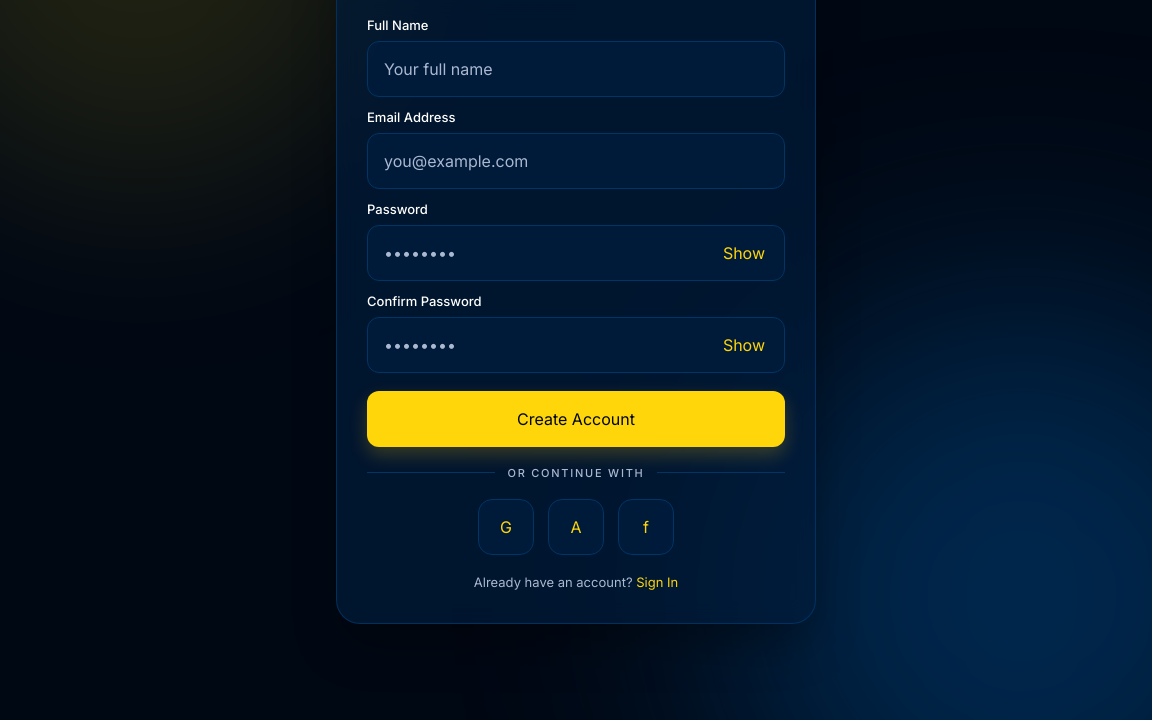
AuthPage › exibe toast informativo ao clicar nos botões sociais
(page scrolled)
Click the button named "Continue with Google" at (506, 527), box [478, 499, 534, 555]
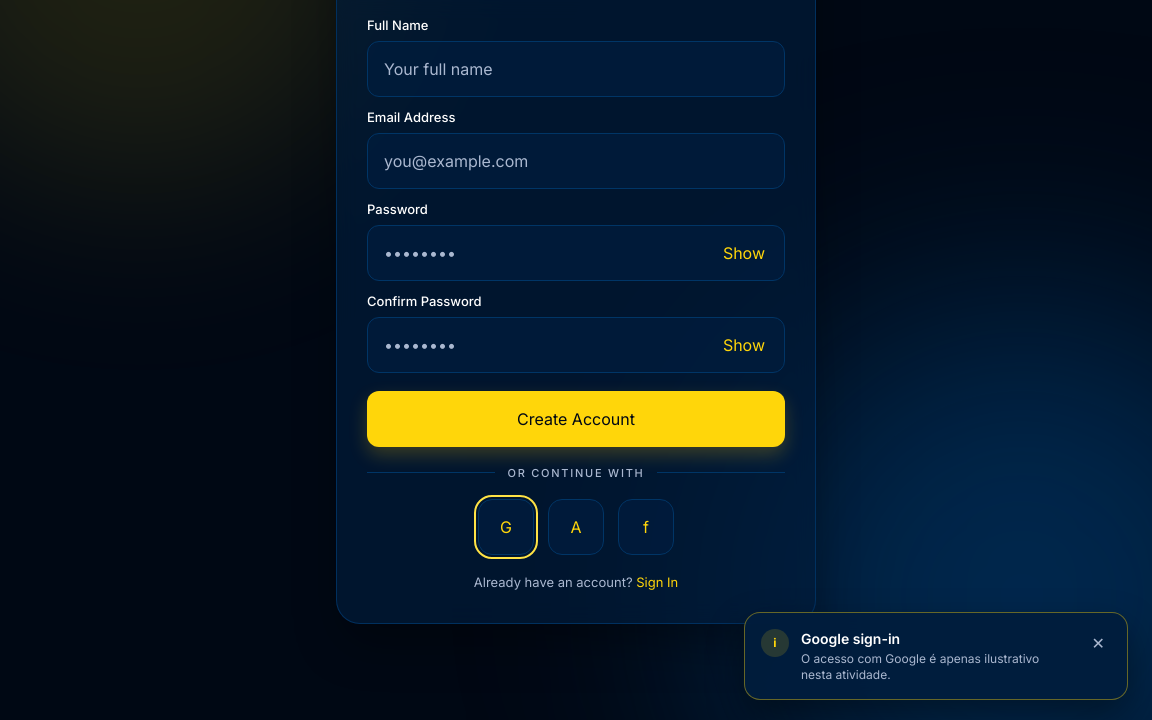
expect the message shows "Google sign-in": met, box [801, 630, 900, 647]
